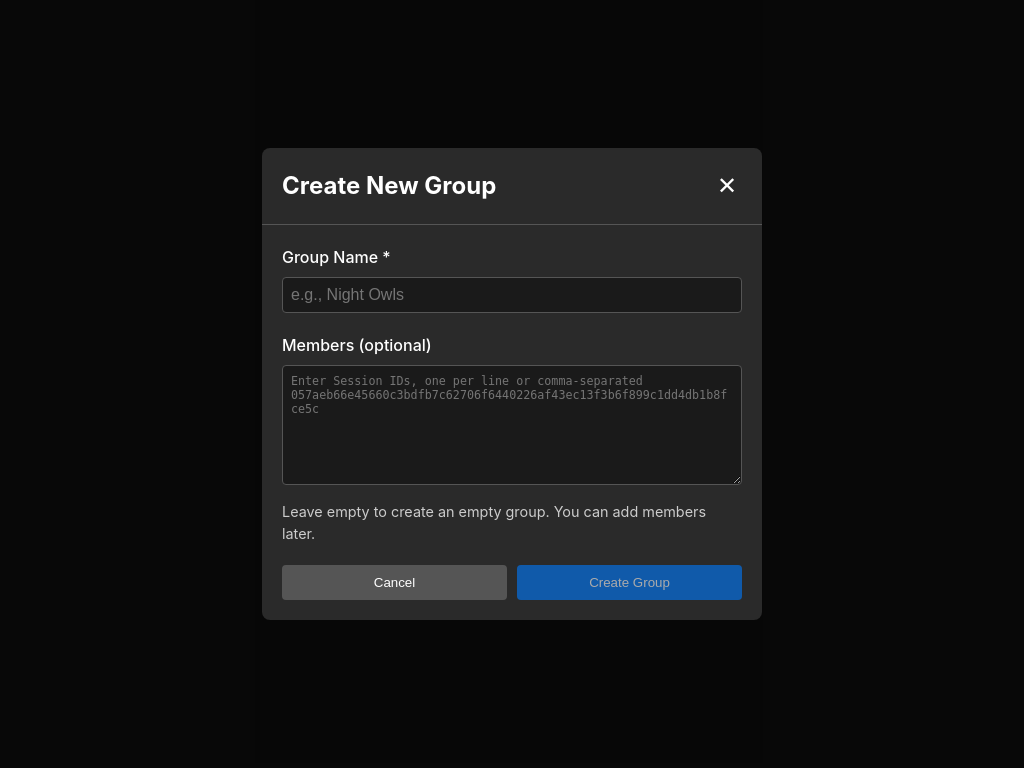
Scenario: GroupCreate › validates Session ID format
Type "Test Group" into the field labelled "Group Name *" at (512, 295), box x1=282 y1=277 x2=742 y2=313
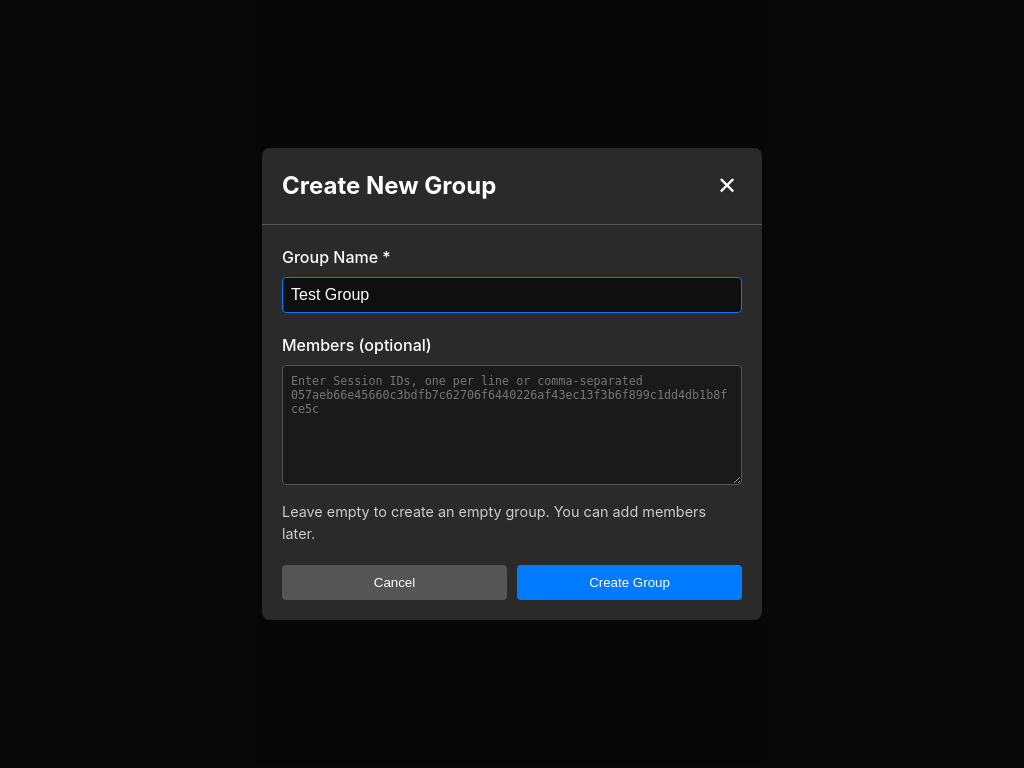
Type "invalid-session-id" into the text box labelled "Members (optional)" at (512, 425), box x1=282 y1=365 x2=742 y2=485
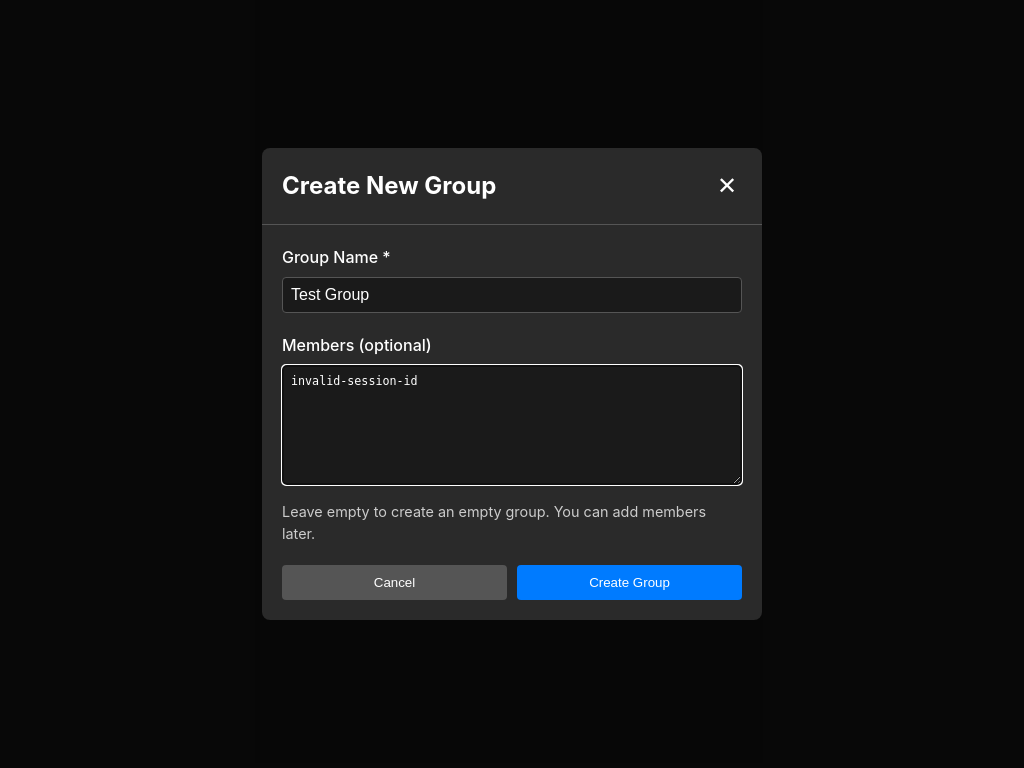
Click the button "Create Group" at (630, 582), box x1=517 y1=565 x2=742 y2=600
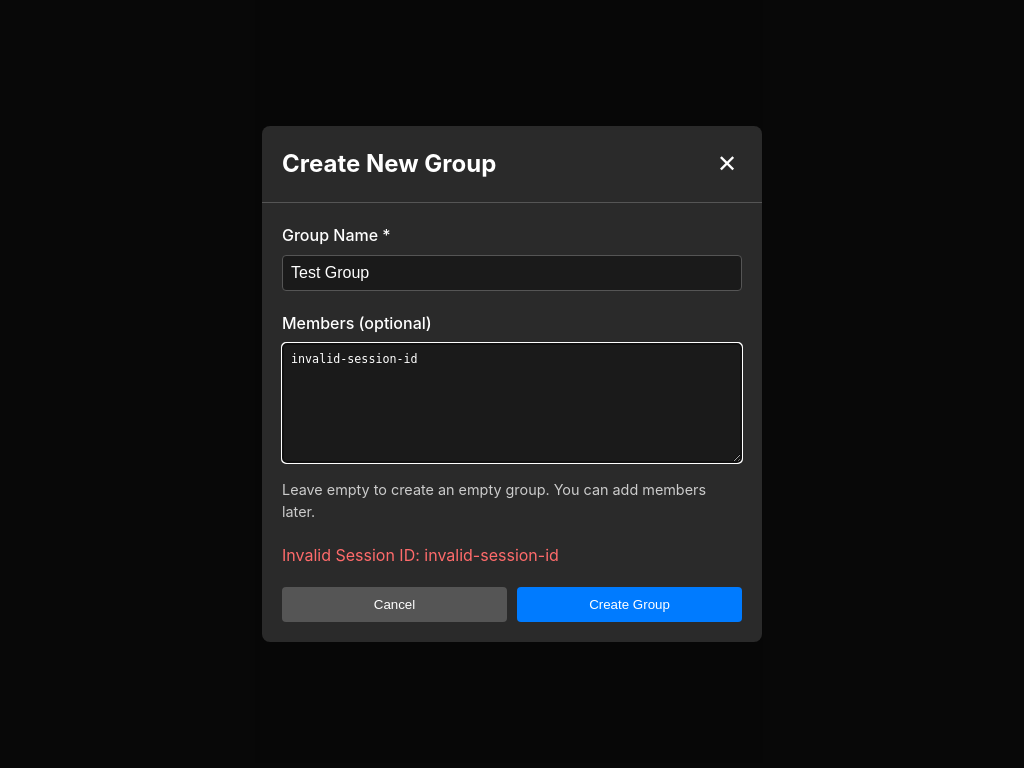
Now the text "Invalid Session ID: invalid-session-id" is shown, box x1=282 y1=545 x2=559 y2=565
